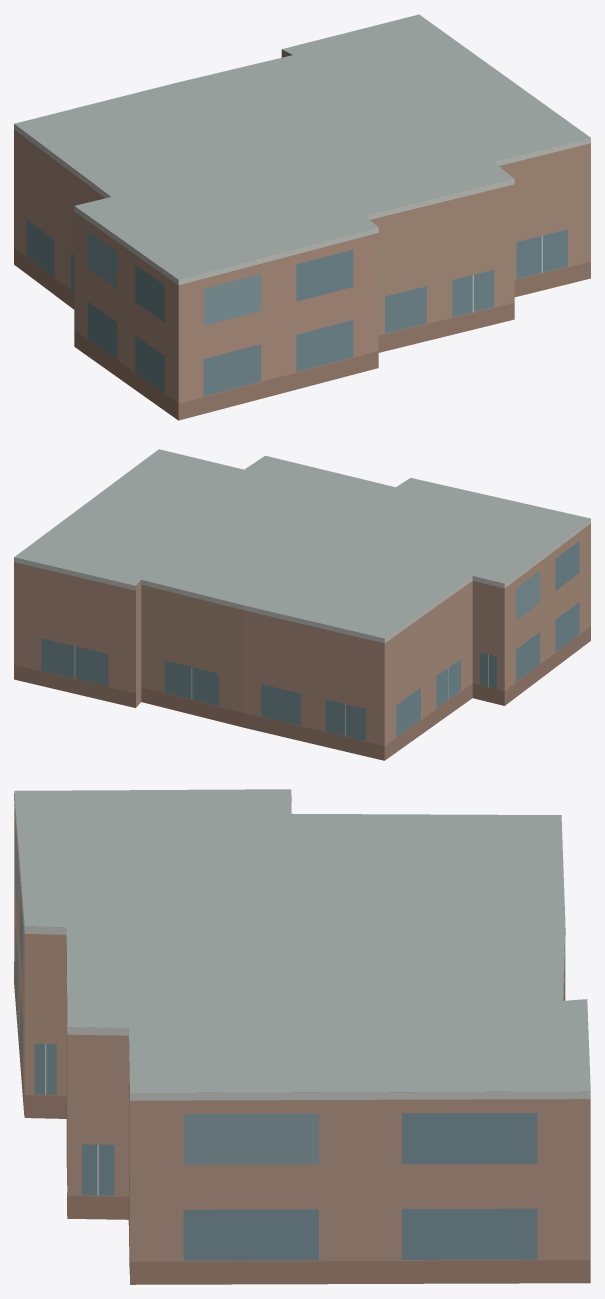
The model's file is survey-upis-32461976.glb.
3 views of the same model, one above another, from view 1: azimuth 30°, elevation 25°; view 2: azimuth 150°, elevation 25°; view 3: azimuth 270°, elevation 25° (orthographic). The views are drawn at different scales.
Parts seen in each view (by area): view 1: survey-upis-32461976.tmp; view 2: survey-upis-32461976.tmp; view 3: survey-upis-32461976.tmp.
Boxes of the visible parts, x1,y1,x2,y2 form: survey-upis-32461976.tmp: (14, 14, 590, 420); survey-upis-32461976.tmp: (14, 449, 590, 760); survey-upis-32461976.tmp: (14, 789, 590, 1284).
Bounding box in the file's own units: 20.75 × 6.1 × 16.64.
